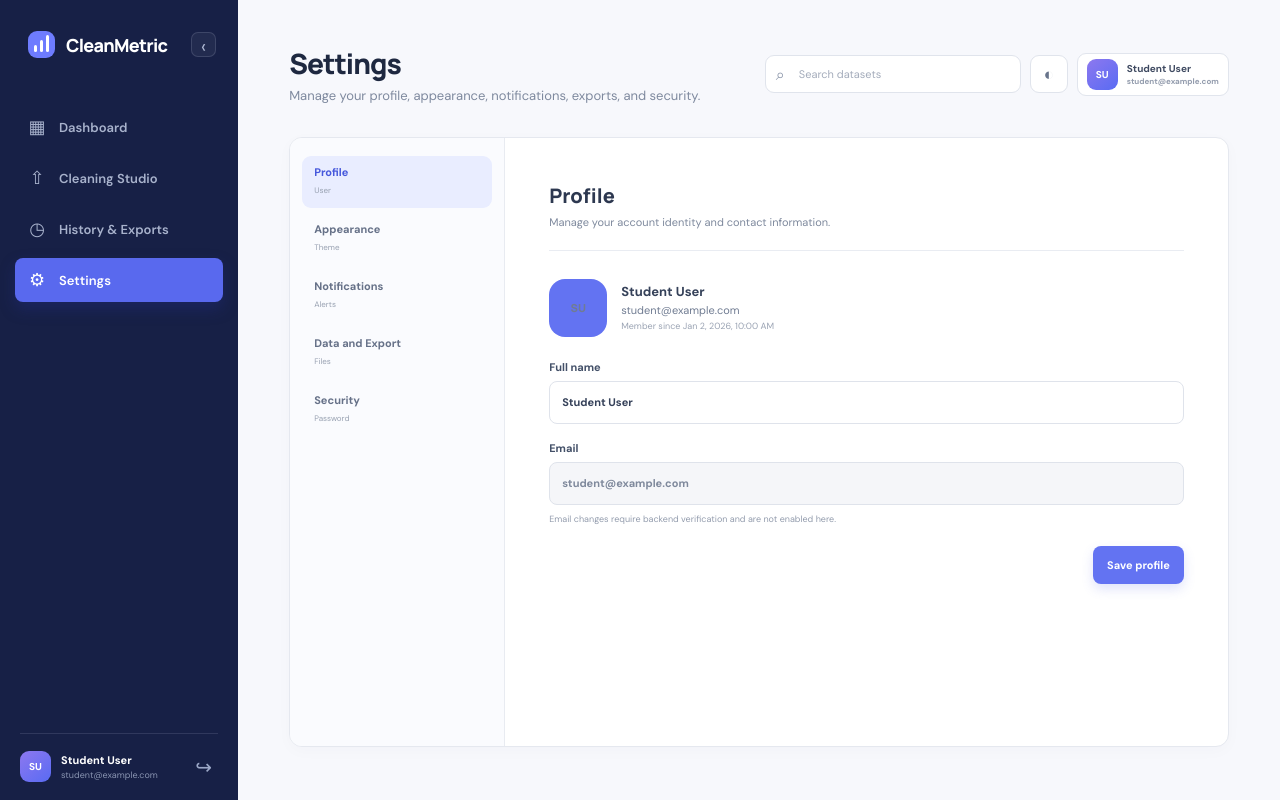
Test case: settings page › updates the full name through the profile API
Step 1. Replace the text in the field showing "Student User" with "Updated Student" → (866, 402), box [549,380,1184,424]
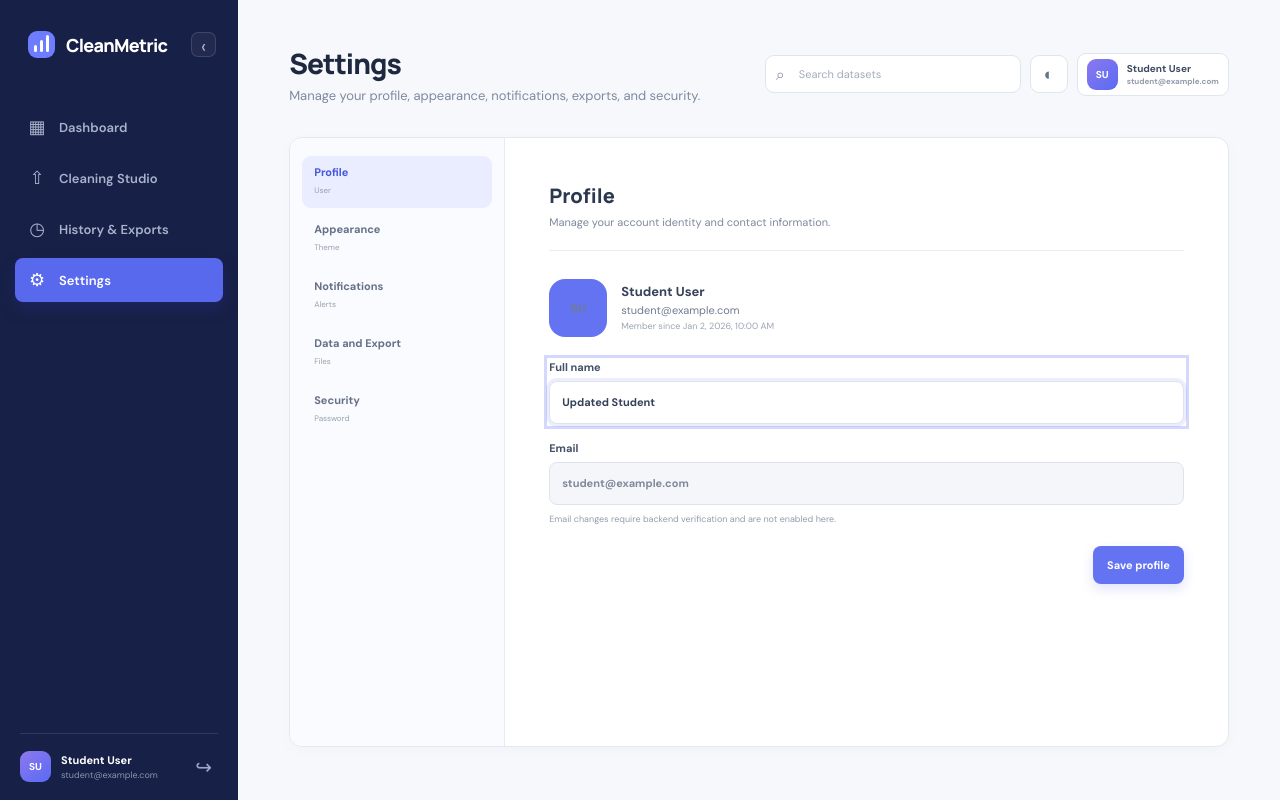
Step 2. Click the button "Save profile" → (1138, 564), box [1093,546,1184,584]
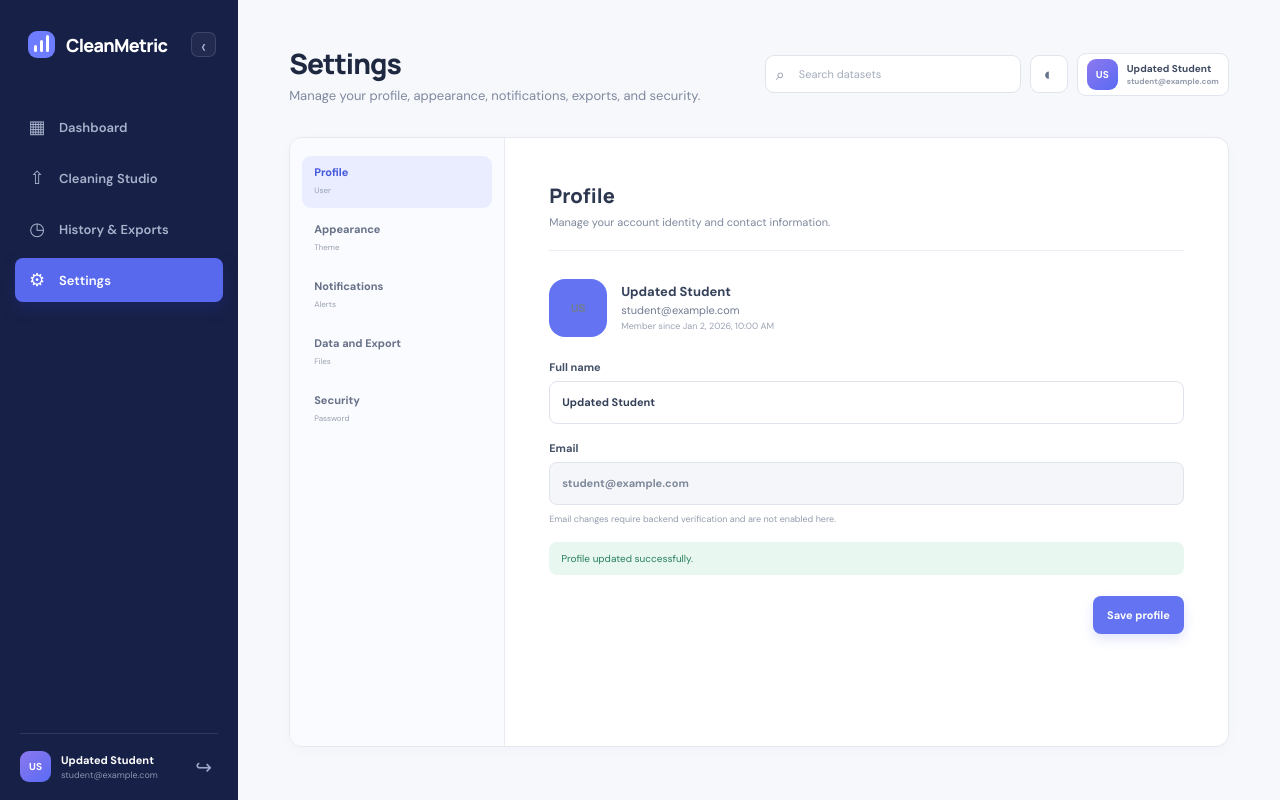
Now the text "Profile updated successfully." is shown, box [549,542,1184,574]
